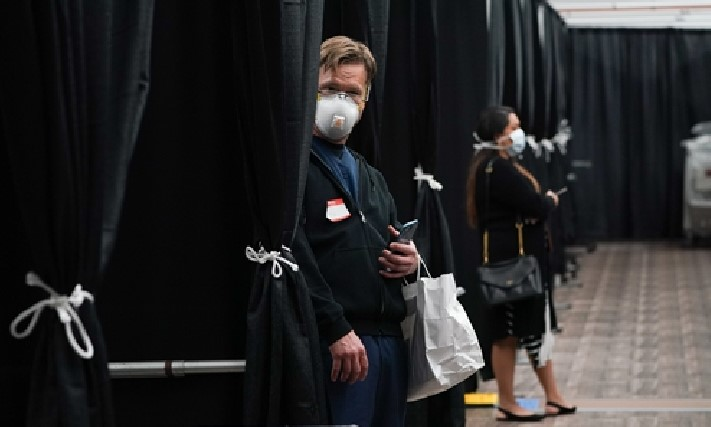face_with_mask: (313, 41, 373, 139), (483, 107, 525, 155)
